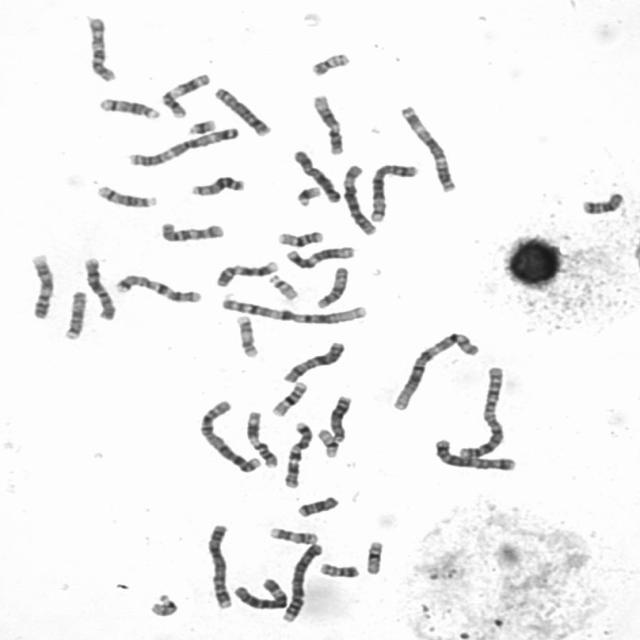A1: (387, 329, 482, 412), (217, 293, 370, 326)
A2: (196, 397, 264, 474), (455, 362, 508, 460)
A3: (397, 101, 459, 193), (124, 122, 242, 168)
B4: (278, 540, 325, 624), (203, 520, 235, 611)
B5: (365, 160, 421, 223), (430, 435, 519, 473)
C10: (82, 12, 119, 84), (159, 219, 228, 243)
C11: (158, 70, 212, 120), (242, 408, 280, 469)
C12: (309, 91, 346, 156), (281, 243, 357, 270)
C6: (338, 160, 379, 237), (230, 574, 290, 611)
C7: (111, 271, 204, 304), (280, 418, 314, 490)
C8: (210, 84, 273, 138), (82, 256, 124, 326)
C9: (26, 249, 56, 320), (212, 258, 280, 288)
D13: (187, 172, 246, 198), (326, 392, 353, 444)
D14: (93, 182, 159, 210), (95, 94, 162, 121)
D15: (313, 264, 351, 311), (59, 287, 88, 341)
E16: (268, 378, 310, 418), (274, 227, 326, 248)
E17: (233, 312, 260, 359), (266, 524, 320, 546)
E18: (578, 189, 627, 215), (294, 493, 340, 519)
F19: (362, 537, 386, 576), (314, 426, 340, 459)
F20: (308, 49, 352, 77), (316, 560, 361, 579)
G21: (292, 183, 323, 208), (183, 116, 218, 136)
G22: (265, 272, 301, 302), (146, 590, 180, 618)
X: (289, 146, 343, 205), (279, 338, 347, 384)
